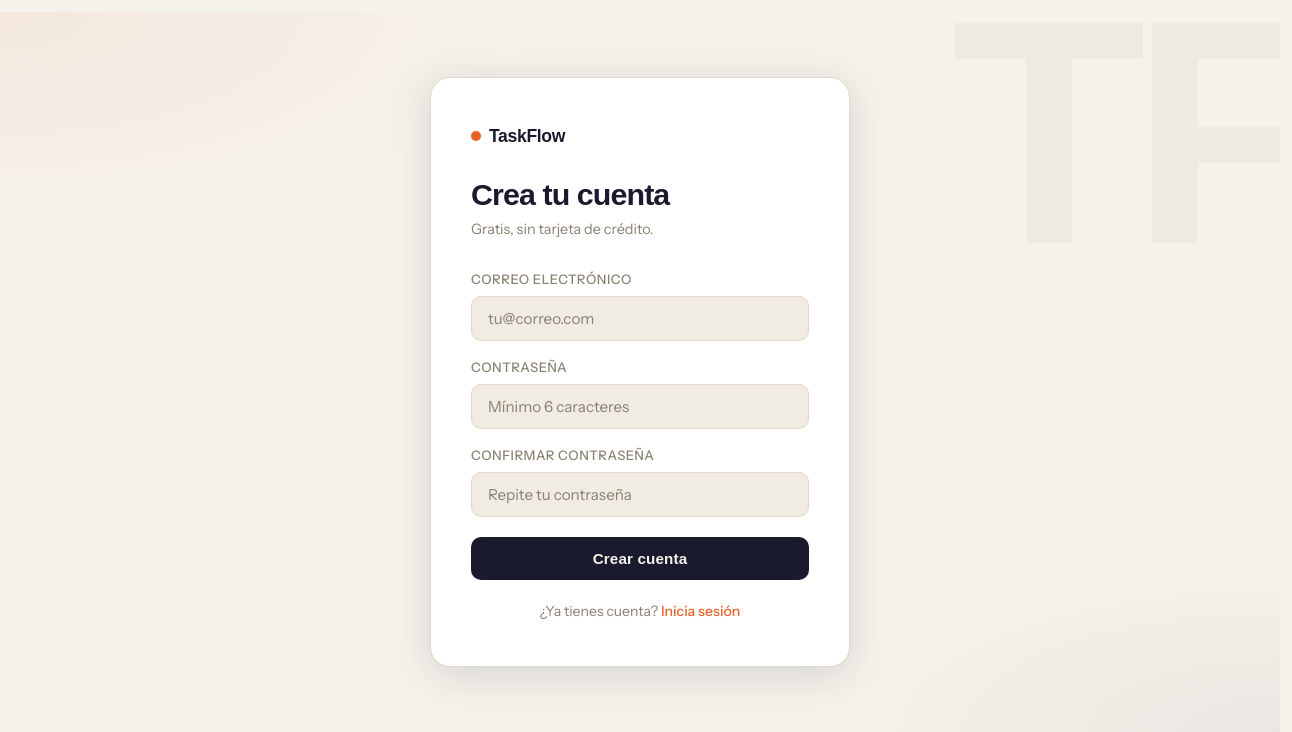
Autenticación › Página de Registro › Muestra error si la contraseña es muy corta
The width and height of the screenshot is (1292, 732).
Step 1. Type "nuevo@correo.com" into the field with test id "email-input" → (640, 319), box [471,296,809,341]
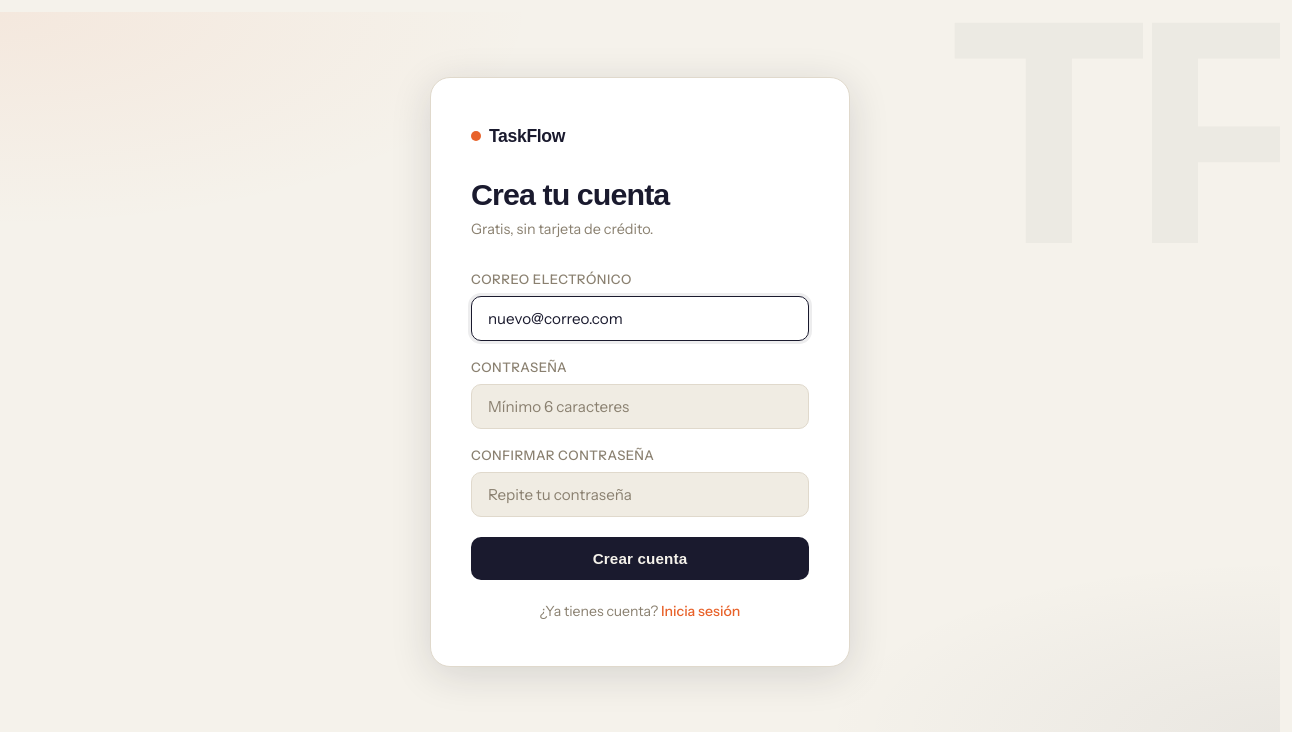
Step 2. Type "123" into the password field with test id "password-input" → (640, 407), box [471,384,809,429]
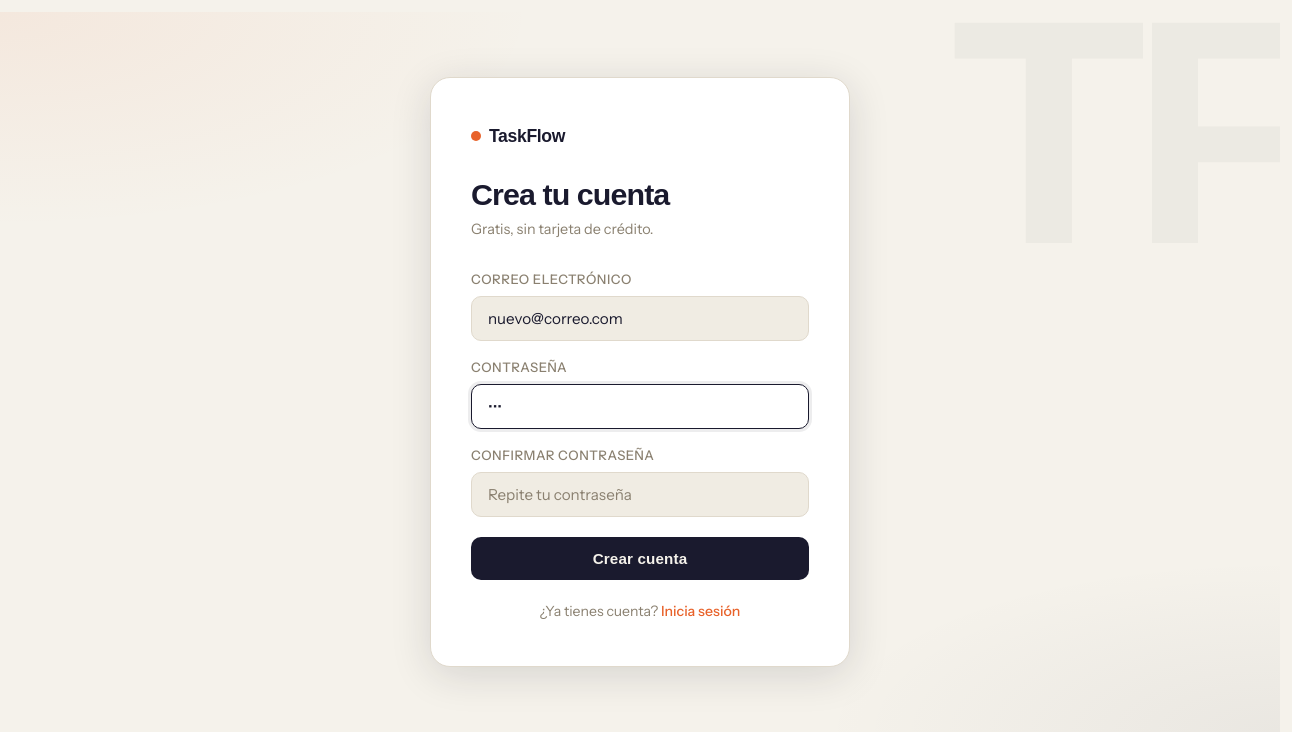
Step 3. Type "123" into the password field with test id "confirm-input" → (640, 495), box [471,472,809,517]
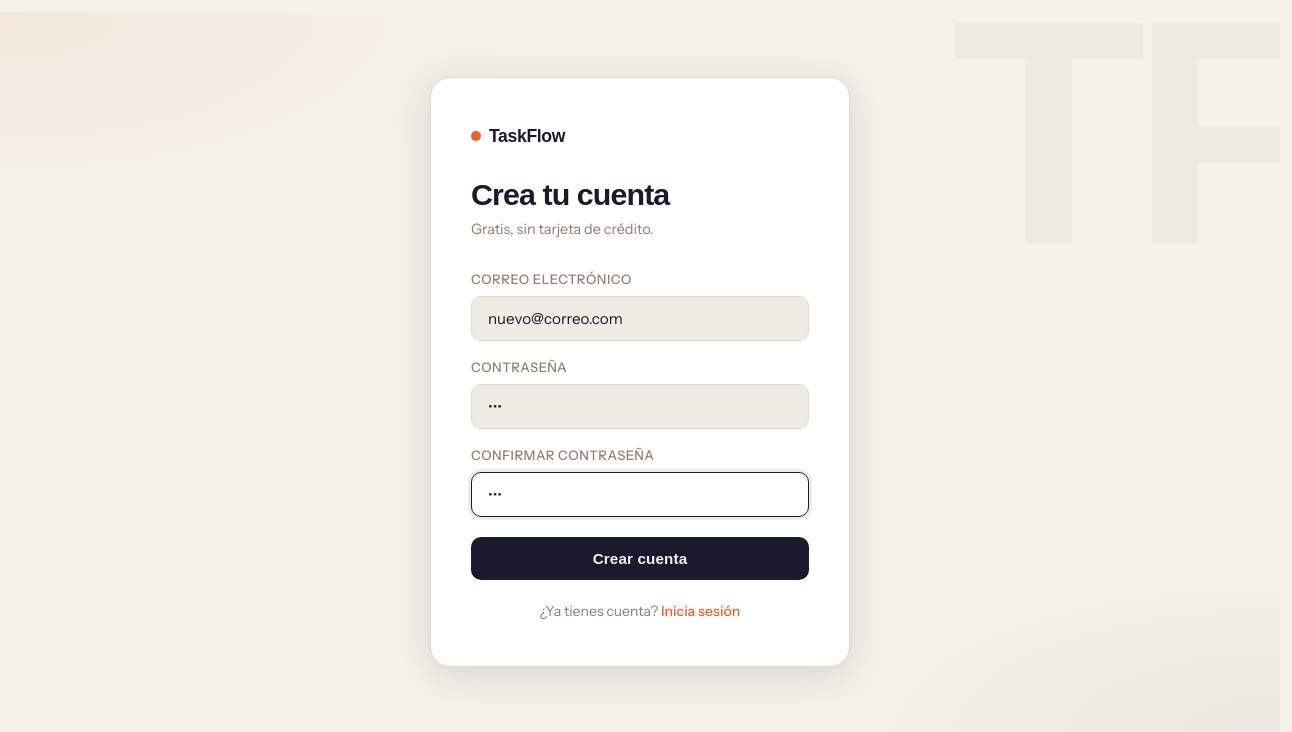
Step 4. Click the button with test id "submit-btn" → (640, 559), box [471,537,809,580]
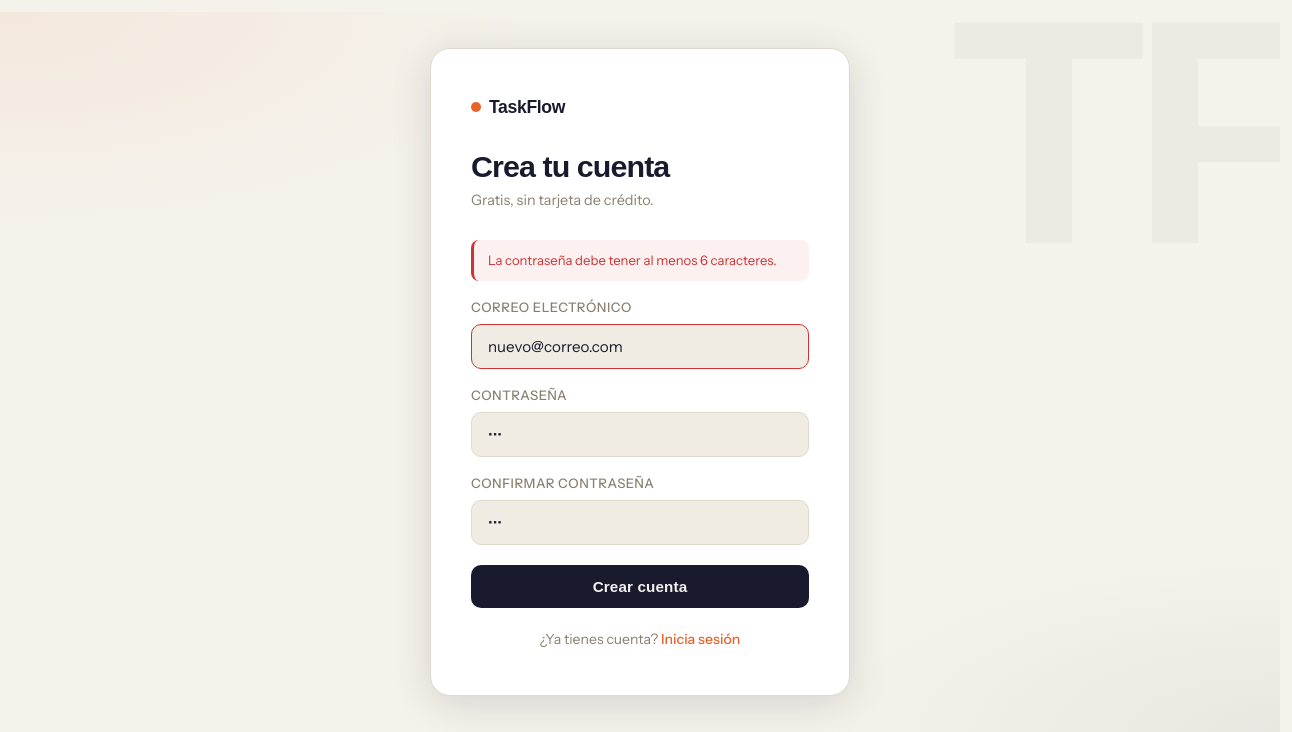
Now the text with test id "auth-error" shows "6 caracteres", box [488,252,777,268]
